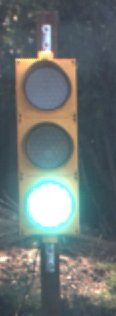Green: (5, 32, 90, 259)
